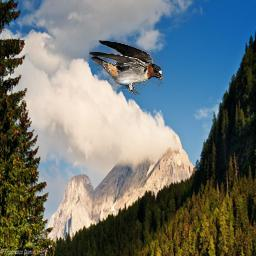Swallow: (89, 40, 163, 95)
